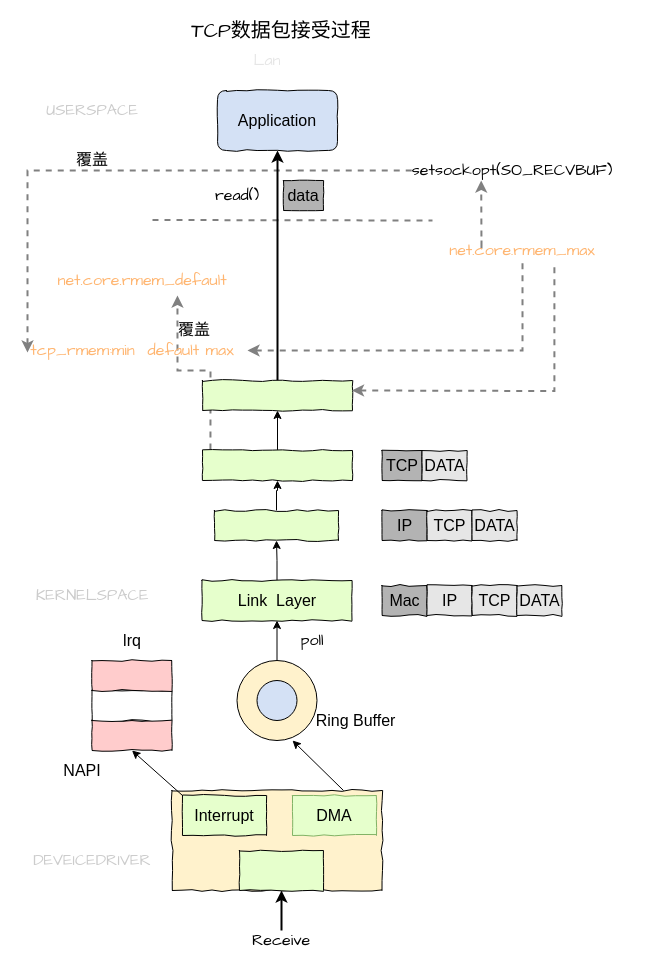
Image size: 649x967. Some labels were removed from this diagram. Here are the shapes that lost their labels. From the top down, the centre of each, then its label:
At (277,395): "TCP Recv Buffer".
At (277,465): "TCP Process".
At (276,525): "IP Layer".
At (281,870): "NIC Memory".
